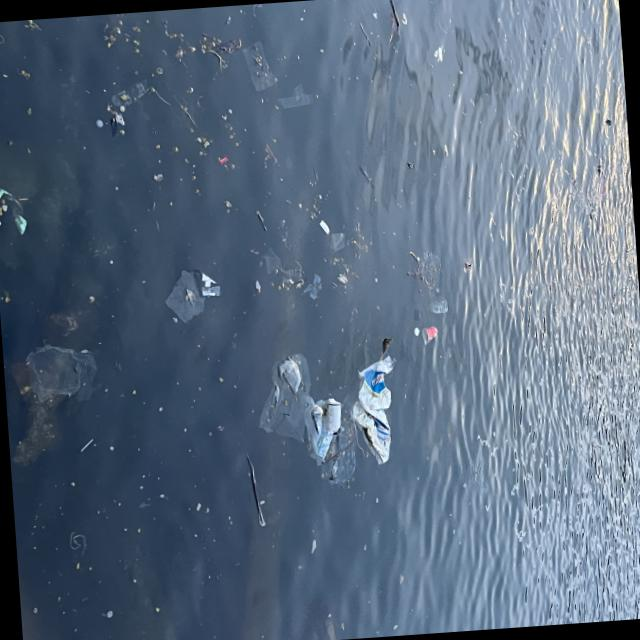foam: (318, 220, 329, 237)
plastic bag: (262, 357, 364, 481), (354, 360, 402, 466)
